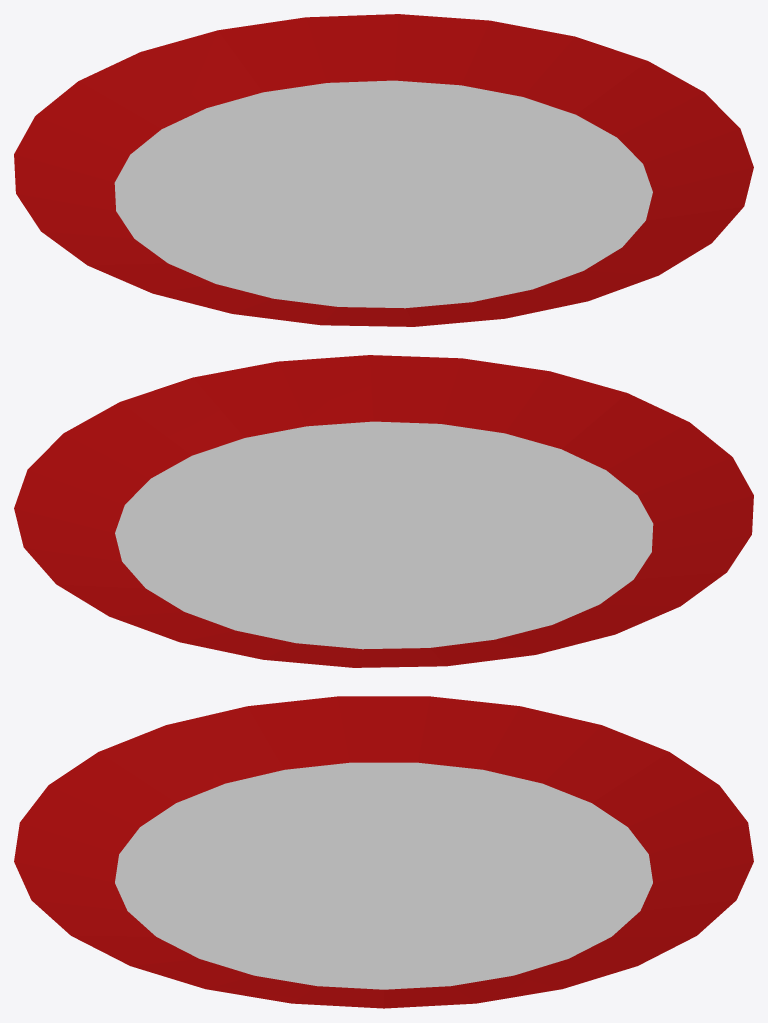
The model's file is Dish.FBX.
The picture shows the model from 3 angles, top to bottom: view 1: azimuth 30°, elevation 25°; view 2: azimuth 150°, elevation 25°; view 3: azimuth 270°, elevation 25°; orthographic projection.
Visible parts, largest first — view 1: dish; view 2: dish; view 3: dish.
Boxes of the visible parts, <box> form: dish: <box>14,14,753,326</box>; dish: <box>14,355,753,667</box>; dish: <box>14,696,753,1008</box>.
Bounding box in the file's own units: 21.83 × 1.1 × 21.88.
